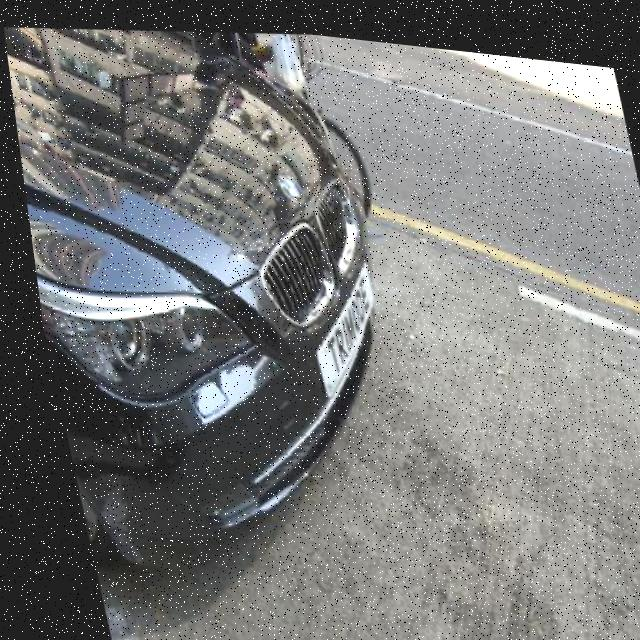license_plate: (288, 248, 387, 396)
